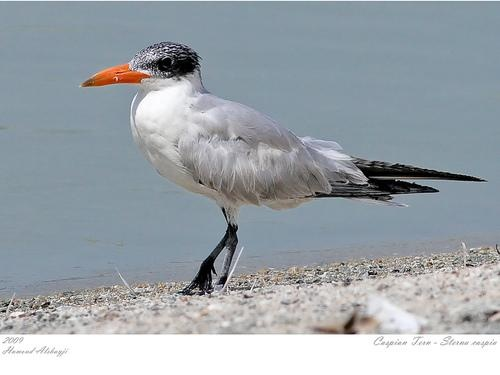bird: (78, 38, 484, 295)
